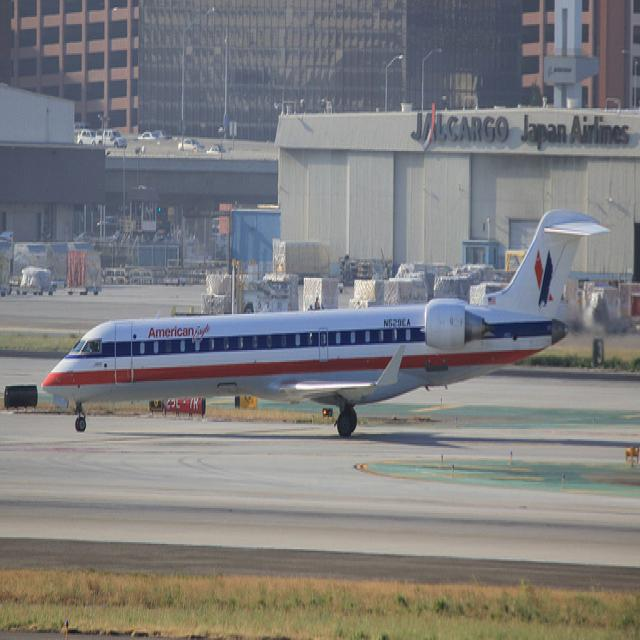Vehicle: (67, 249, 101, 297), (242, 282, 292, 313), (20, 266, 54, 297), (102, 128, 127, 148), (177, 139, 205, 152), (78, 130, 100, 145), (73, 122, 93, 133), (152, 130, 173, 140), (205, 146, 228, 154), (138, 132, 156, 140)
